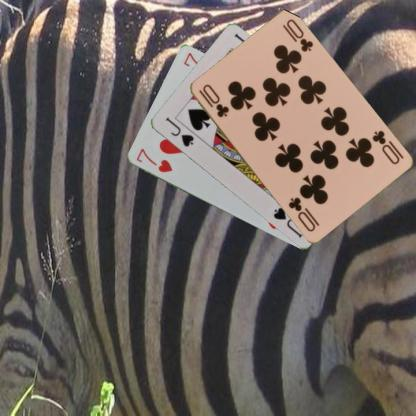10c: (196, 81, 230, 119), (369, 127, 401, 166)
7h: (133, 146, 173, 174)
Js: (162, 114, 195, 148)
